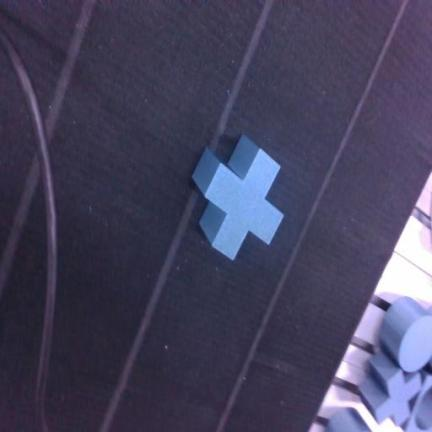cross: (193, 135, 283, 259), (359, 351, 421, 426)
